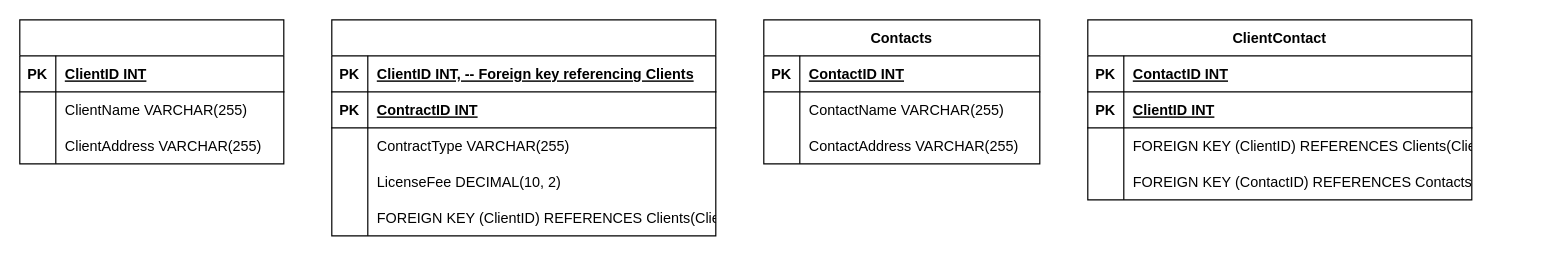
Some shapes in this 1565 by 256 pixel diagram are drawn without their labels. Here are the shapes that lost their labels. From the top down, the box of each, then its label:
(19, 19, 284, 164): Clients
(331, 19, 716, 236): Contracts
